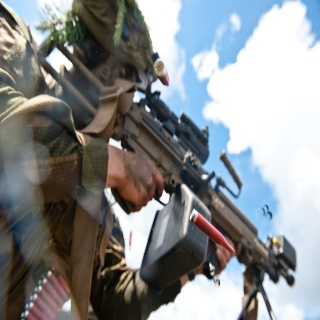rifle: (33, 31, 297, 320)
